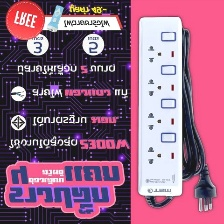three_eye_plug: (134, 12, 184, 198)
